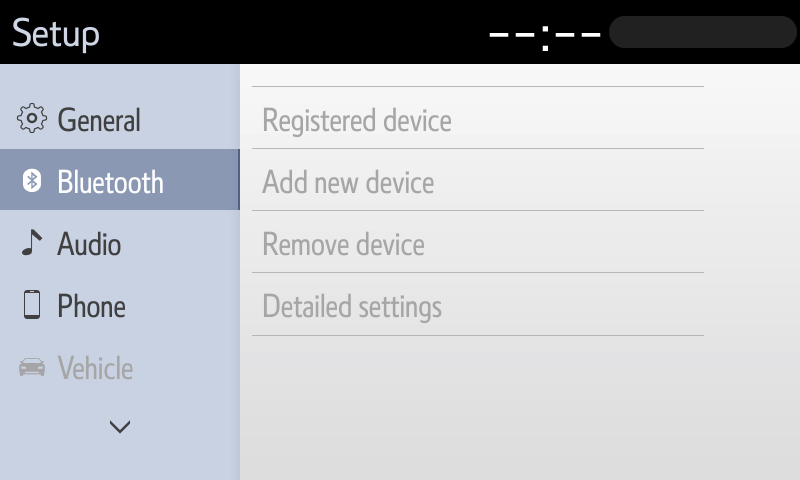touchPart: (14, 284, 138, 331), (9, 105, 161, 134), (19, 226, 127, 263), (100, 410, 138, 441)
untouchPart: (246, 144, 710, 221), (252, 270, 718, 343), (244, 206, 713, 278), (249, 84, 704, 154), (2, 146, 241, 212), (482, 14, 798, 54), (11, 354, 151, 390), (15, 17, 111, 59)
